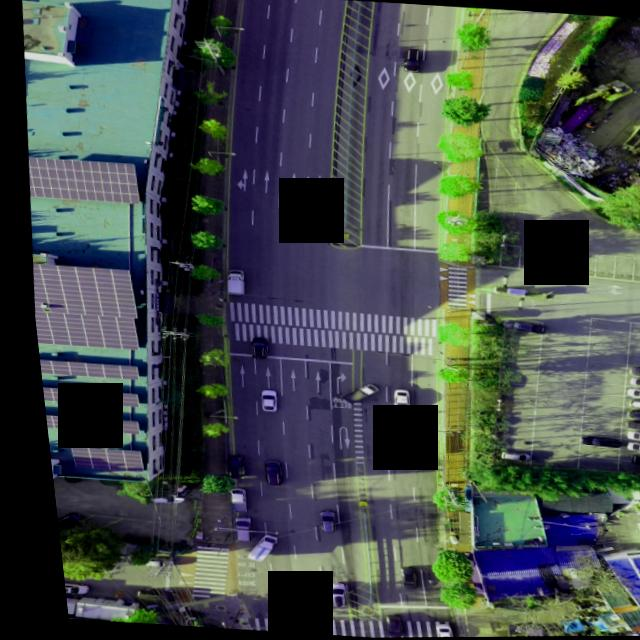car: (492, 318, 541, 335), (219, 514, 243, 542), (250, 461, 273, 486), (312, 582, 334, 608), (568, 435, 612, 448), (45, 510, 73, 530), (401, 46, 423, 71), (137, 491, 175, 504), (241, 336, 261, 359), (306, 510, 326, 533), (486, 450, 523, 462), (415, 621, 441, 638), (249, 388, 269, 410), (614, 407, 640, 423), (130, 555, 162, 568), (383, 388, 401, 411), (614, 418, 640, 433), (614, 430, 640, 444), (370, 615, 389, 634), (388, 565, 403, 587), (615, 441, 640, 454), (51, 580, 77, 592), (620, 455, 640, 470), (616, 398, 640, 410), (620, 365, 640, 379), (618, 389, 640, 401), (616, 432, 640, 443), (621, 376, 640, 388)
medium_truck: (610, 109, 640, 156)
small_truck: (231, 532, 269, 563), (329, 381, 371, 408), (214, 484, 240, 513), (119, 587, 164, 603), (213, 452, 238, 479), (217, 268, 241, 295)
